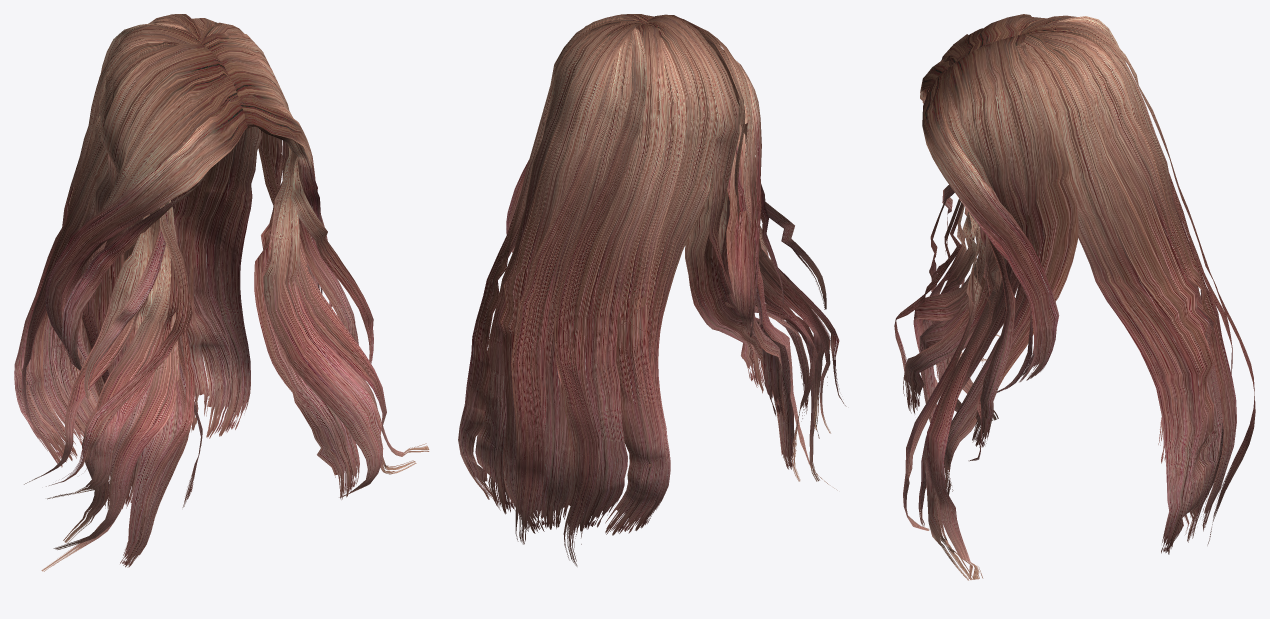
Rendered from mh_elvs_hazel_hair.glb.
The picture shows the model from 3 angles, left to right: view 1: azimuth 30°, elevation 25°; view 2: azimuth 150°, elevation 25°; view 3: azimuth 270°, elevation 25°; orthographic projection. The views are drawn at different scales.
Visible parts, largest first — view 1: mh_elvs_hazel_hair; view 2: mh_elvs_hazel_hair; view 3: mh_elvs_hazel_hair.
Part boxes in pixels (left/top/right/bottom): mh_elvs_hazel_hair: left=14, top=14, right=429, bottom=571; mh_elvs_hazel_hair: left=458, top=14, right=846, bottom=566; mh_elvs_hazel_hair: left=894, top=14, right=1255, bottom=580.
Bounding box in the file's own units: 0.5143 × 0.6601 × 0.3853.
1 material, 1 textured.
